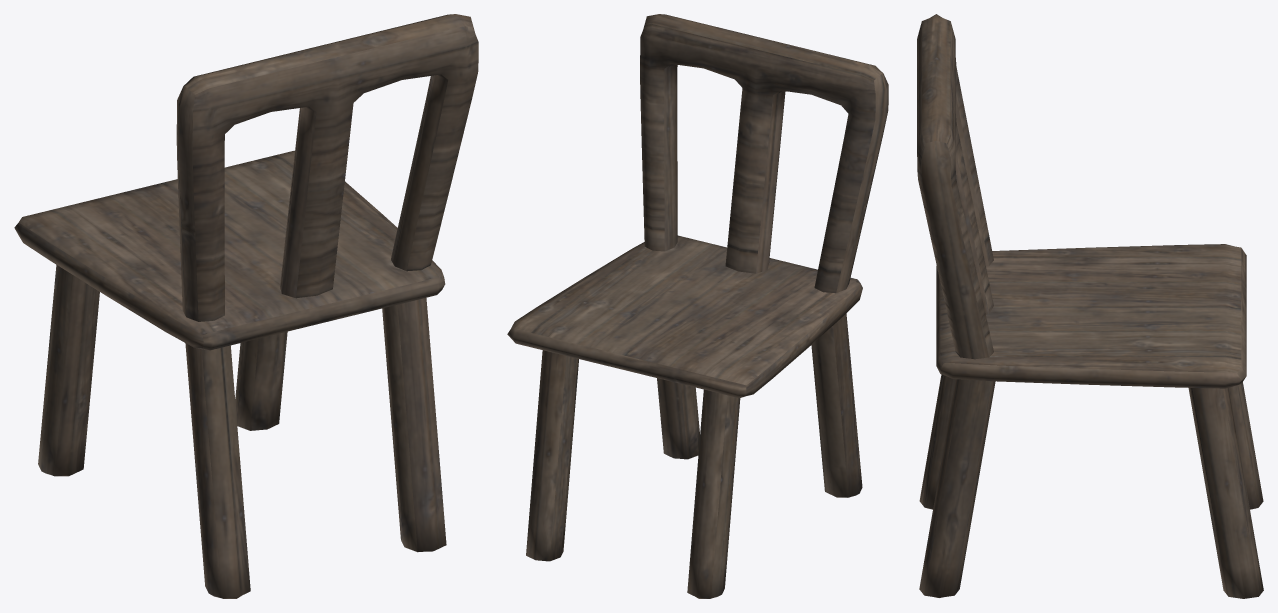
Rendered from chair.glb.
3 renders of one model, left to right at view 1: azimuth 30°, elevation 25°; view 2: azimuth 150°, elevation 25°; view 3: azimuth 270°, elevation 25°, orthographic. The views are drawn at different scales.
Visible parts, largest first — view 1: Chair_Wood Planks_0; view 2: Chair_Wood Planks_0; view 3: Chair_Wood Planks_0.
Part boxes in pixels (x1,y1,x2,y2): Chair_Wood Planks_0: (14, 14, 478, 598); Chair_Wood Planks_0: (507, 14, 888, 598); Chair_Wood Planks_0: (917, 14, 1263, 598).
Size of the model in its own units: 0.1866 by 0.3168 by 0.2084.
Materials: 1 (1 with a texture image).
